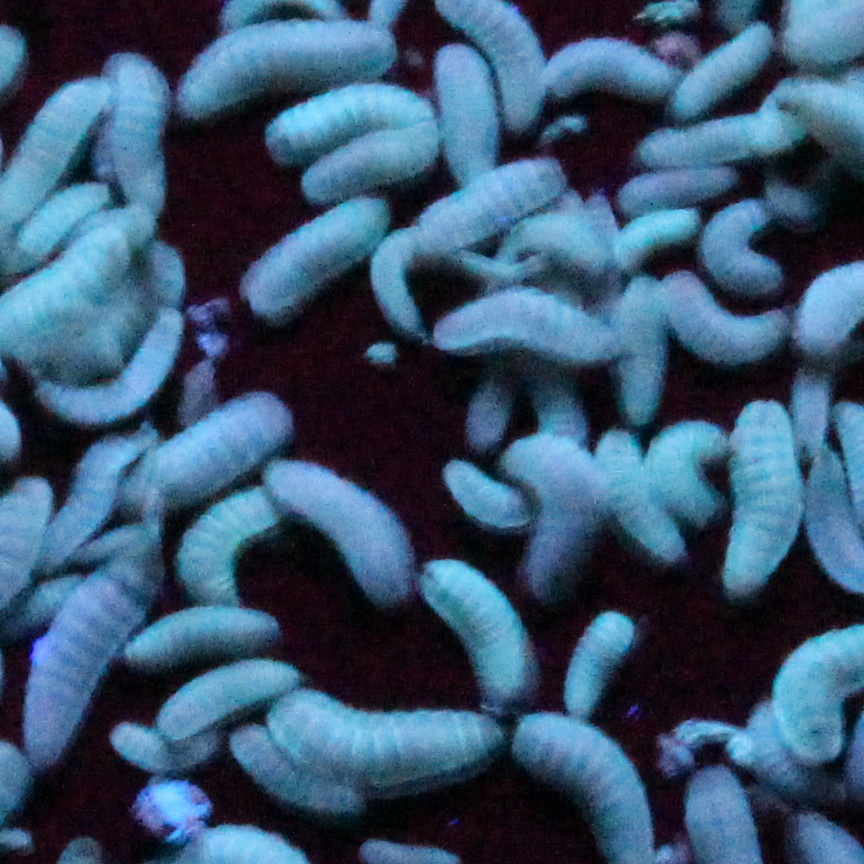larve: (20, 547, 161, 769), (270, 680, 505, 800), (261, 452, 418, 603), (178, 9, 389, 114), (236, 191, 376, 329), (712, 400, 810, 592), (130, 387, 292, 502), (421, 562, 547, 696), (38, 423, 147, 574), (49, 309, 187, 427), (430, 282, 616, 365), (659, 274, 807, 372), (580, 427, 685, 565), (178, 482, 290, 609), (101, 45, 183, 216), (512, 434, 598, 591), (238, 727, 367, 825), (416, 158, 561, 245), (261, 83, 425, 158), (670, 14, 779, 118), (158, 658, 300, 734), (634, 107, 819, 163), (310, 122, 436, 203), (127, 603, 285, 667), (547, 38, 690, 107), (689, 189, 783, 291), (645, 407, 725, 522), (478, 209, 610, 274), (614, 269, 663, 420), (565, 605, 632, 712), (367, 225, 429, 338), (109, 720, 232, 776), (603, 202, 701, 272), (440, 49, 490, 180), (616, 158, 738, 209), (440, 460, 534, 523), (460, 369, 516, 447)
